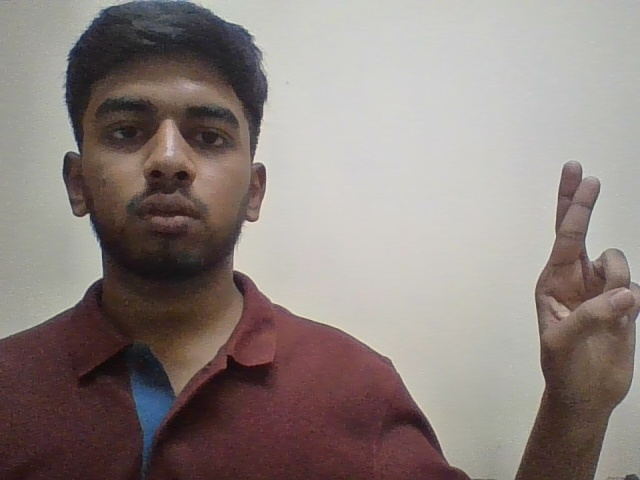R: (517, 139, 640, 428)
